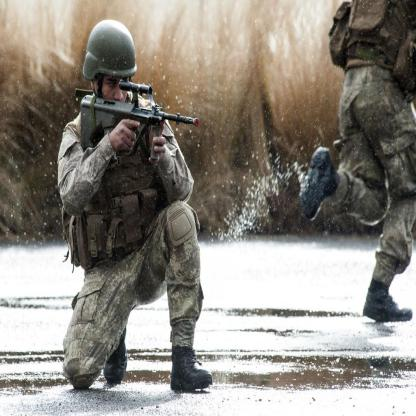Helmet: (78, 27, 139, 100)
